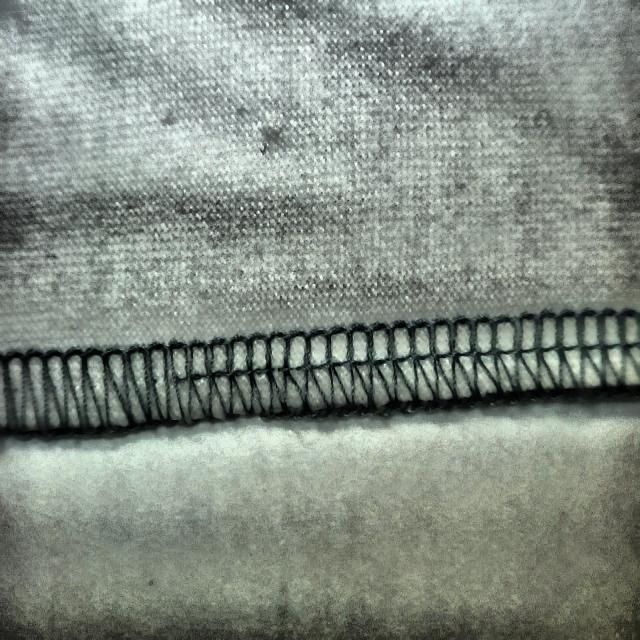Stitch: (2, 320, 382, 440)
